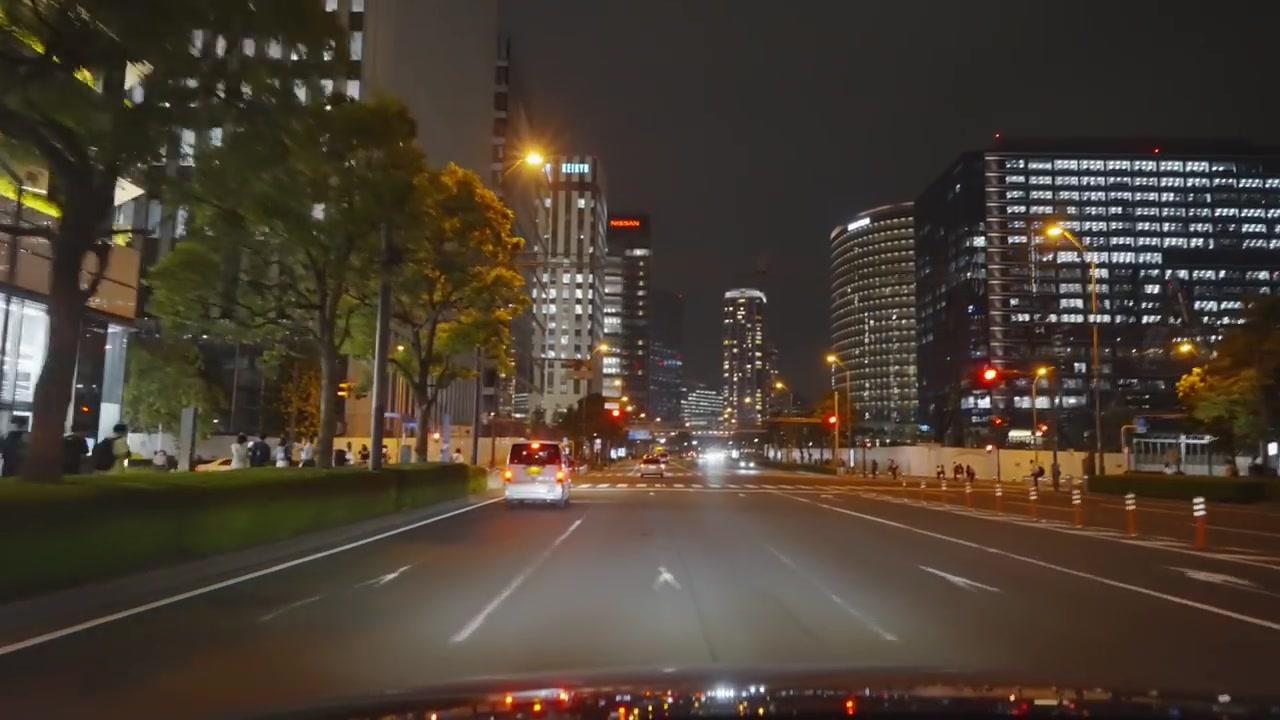bus: (503, 439, 573, 510)
car: (503, 438, 573, 510), (636, 454, 668, 480)
person: (108, 422, 132, 474), (230, 433, 250, 469), (250, 433, 271, 467), (273, 435, 291, 467), (299, 437, 317, 468), (356, 442, 369, 464)
traffic light: (979, 365, 999, 389), (823, 412, 838, 429)
